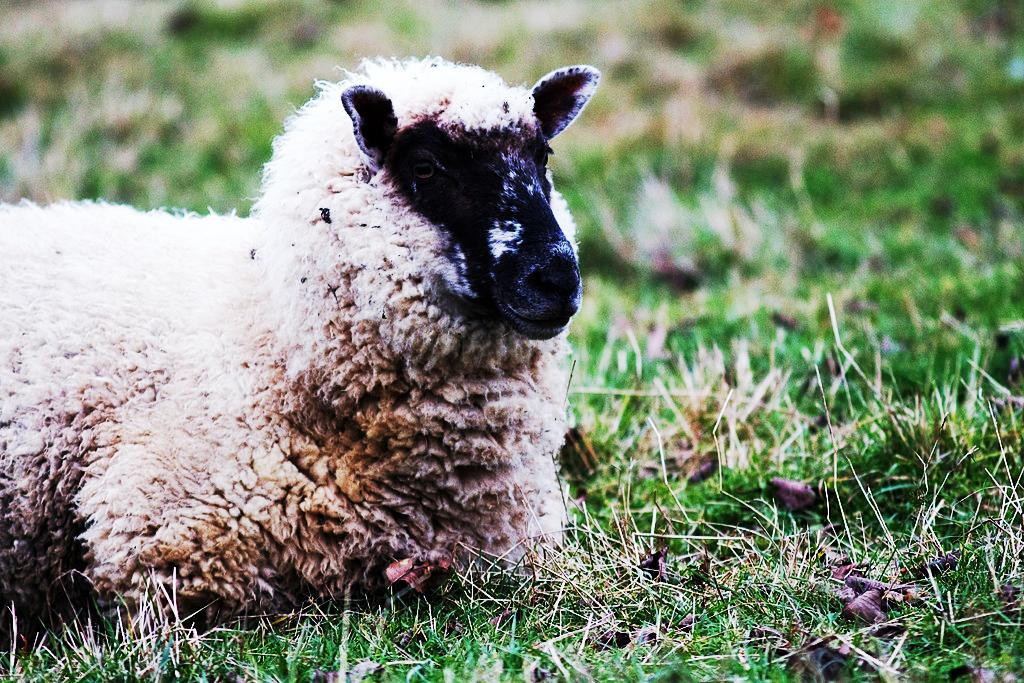Sheep: (0, 57, 603, 648)
